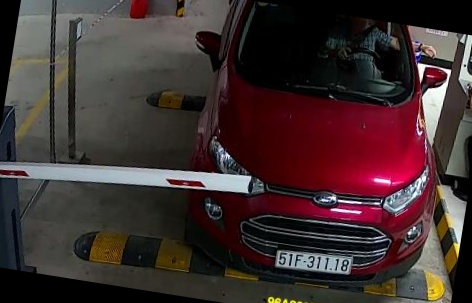plate: (270, 243, 354, 284)
